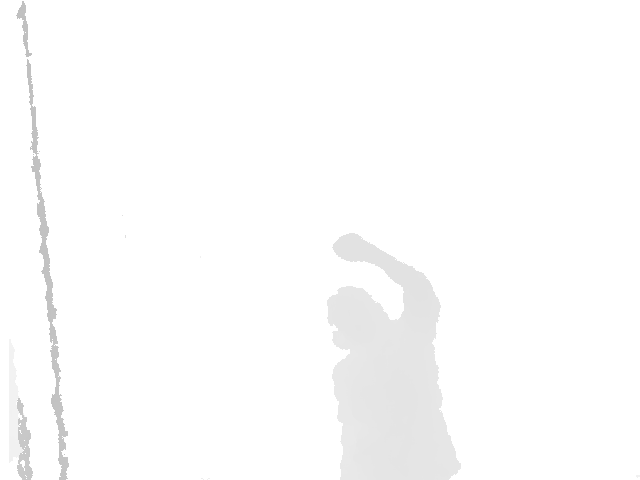hand: (331, 232, 373, 264)
head: (326, 285, 391, 349)
person: (326, 232, 463, 480)
